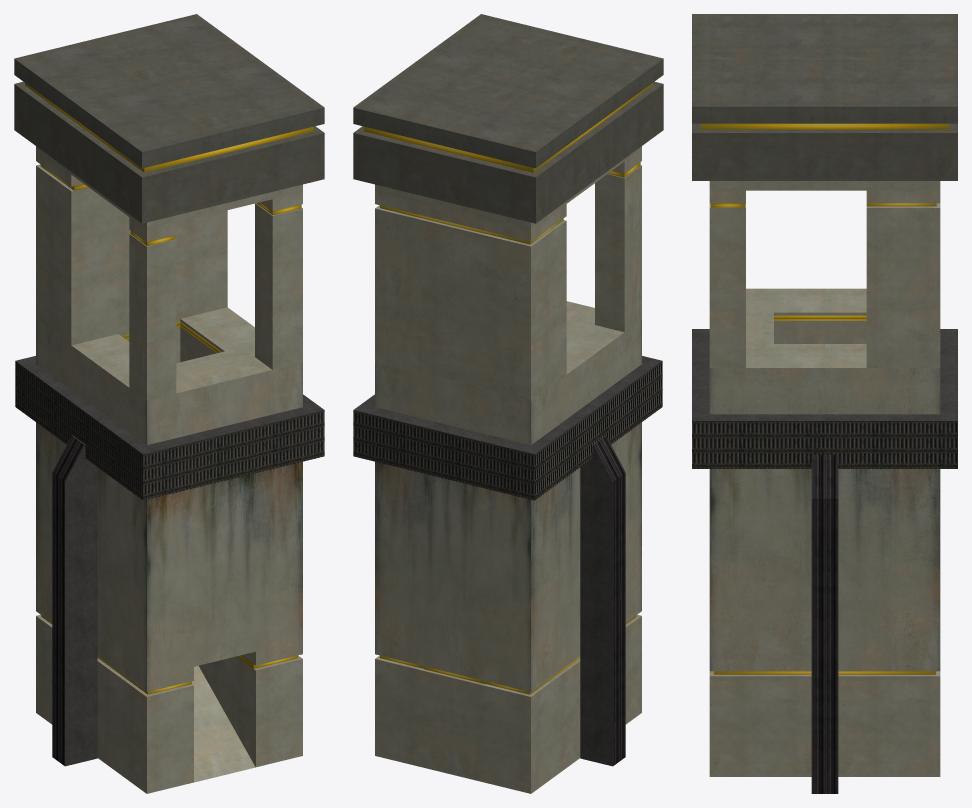
Rendered from mirabase_tower.fbx.
3 views of the same model, side by side, from view 1: azimuth 30°, elevation 25°; view 2: azimuth 150°, elevation 25°; view 3: azimuth 270°, elevation 25° (orthographic). The views are drawn at different scales.
Visible parts, largest first — view 1: Object.001; view 2: Object.001; view 3: Object.001.
Boxes of the visible parts, x1,y1,x2,y2 form: Object.001: (14,14,324,793); Object.001: (353,14,663,793); Object.001: (692,14,957,793).
Size of the model in its own units: 3200 by 8994 by 3200.
